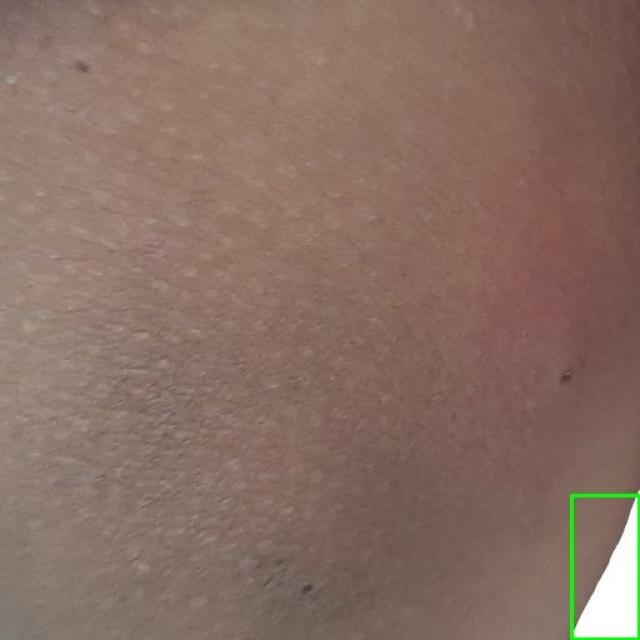Eczema: (571, 495, 639, 639)
